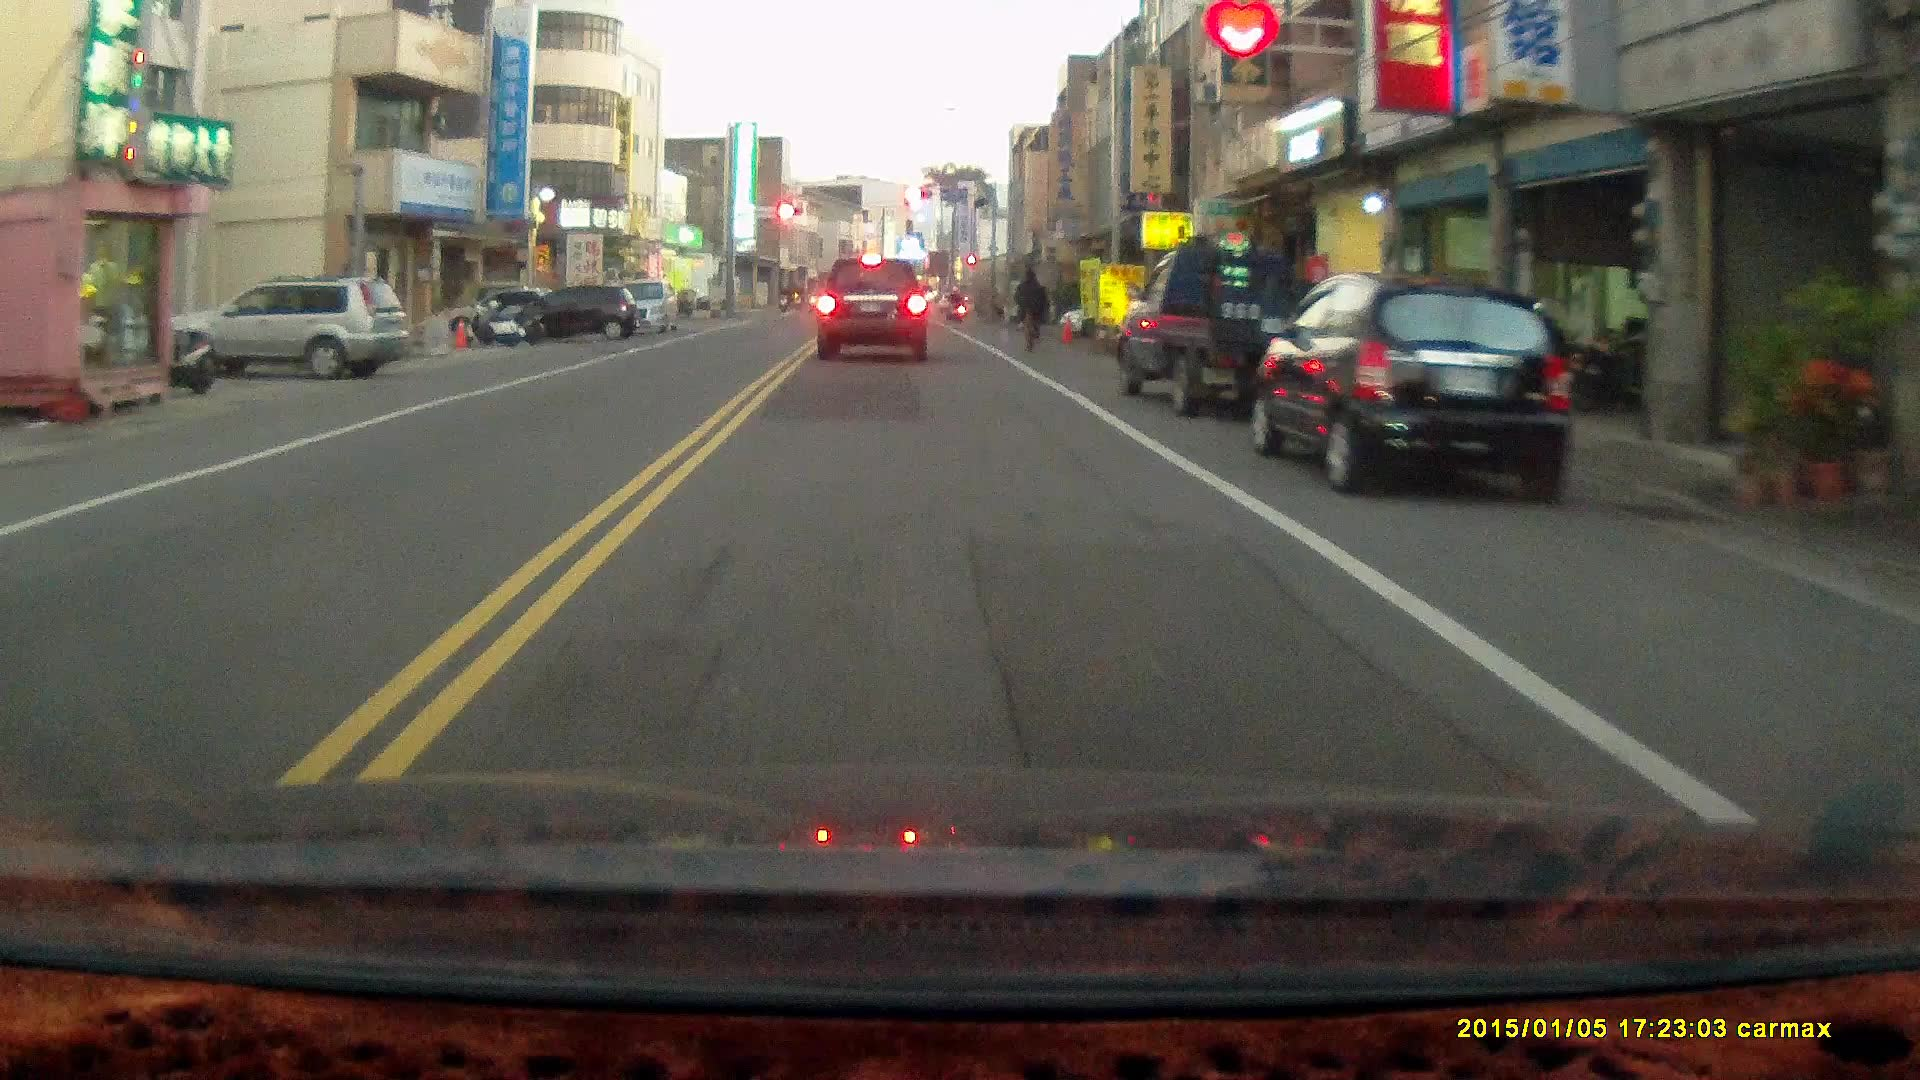rider: (1010, 266, 1049, 354)
vehicle: (1252, 270, 1575, 500), (1112, 243, 1326, 414), (169, 279, 413, 383), (816, 256, 931, 366), (512, 284, 644, 344), (601, 274, 685, 337)
